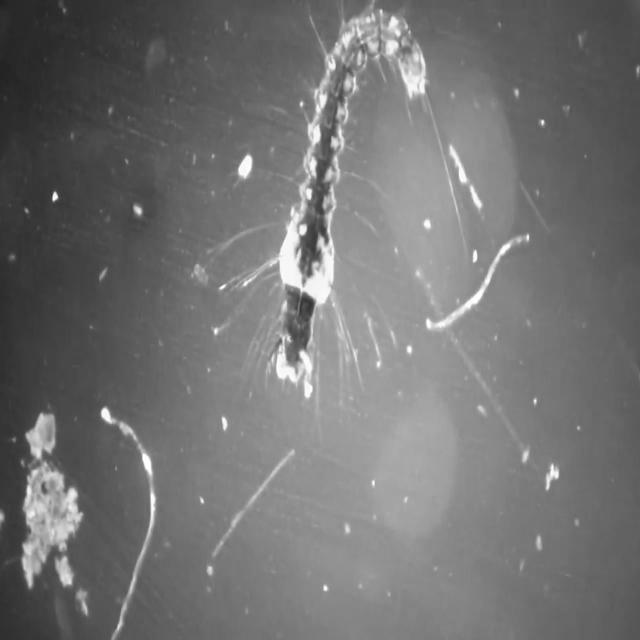larvas: (275, 0, 427, 382)
